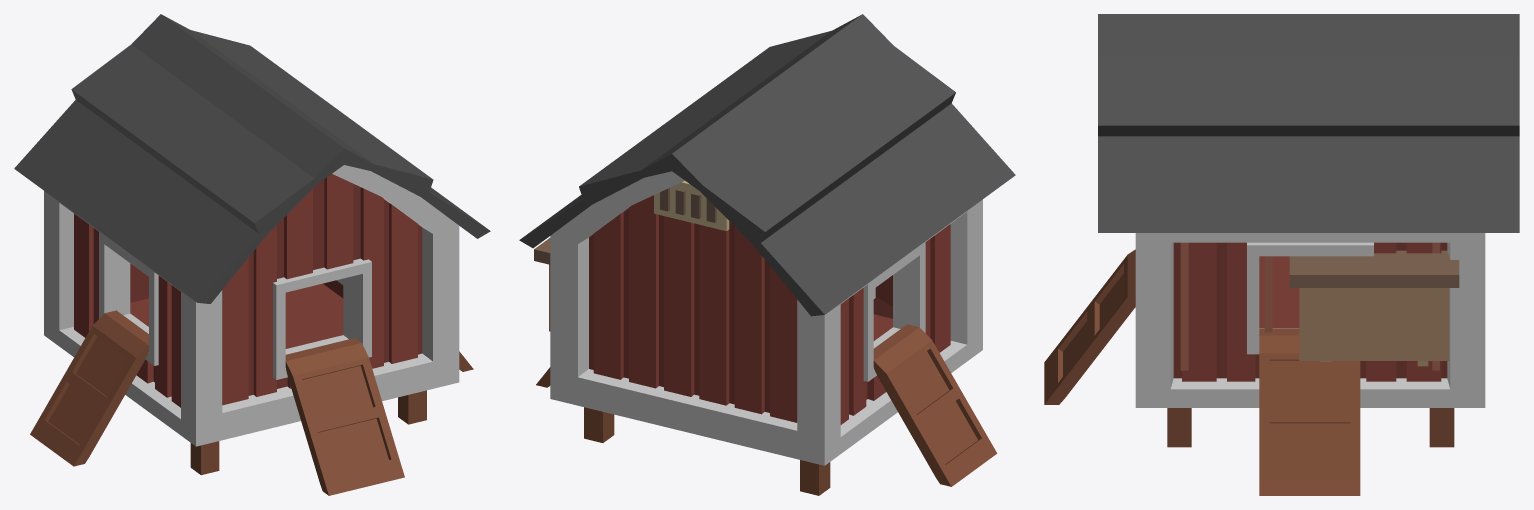
File: chickencoop_DM0F8siLam.glb
3 renders of one model, left to right at view 1: azimuth 30°, elevation 25°; view 2: azimuth 150°, elevation 25°; view 3: azimuth 270°, elevation 25°, orthographic. The views are drawn at different scales.
Visible parts, largest first — view 1: ChickenCoop_Cube.015; view 2: ChickenCoop_Cube.015, Nesting_box_and_roof_vent; view 3: ChickenCoop_Cube.015, Nesting_box_and_roof_vent.
Boxes of the visible parts, bbox=[...] form: ChickenCoop_Cube.015: bbox=[14, 14, 490, 495]; ChickenCoop_Cube.015: bbox=[519, 14, 1015, 495]; Nesting_box_and_roof_vent: bbox=[534, 181, 729, 331]; ChickenCoop_Cube.015: bbox=[1044, 14, 1519, 495]; Nesting_box_and_roof_vent: bbox=[1180, 242, 1459, 370].
Size of the model in its own units: 2.41 by 1.85 by 2.15.
